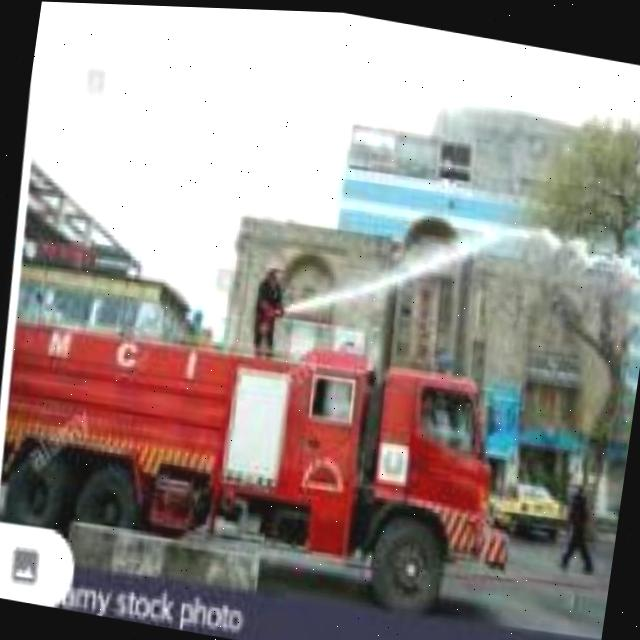emergency: (0, 290, 532, 624)
